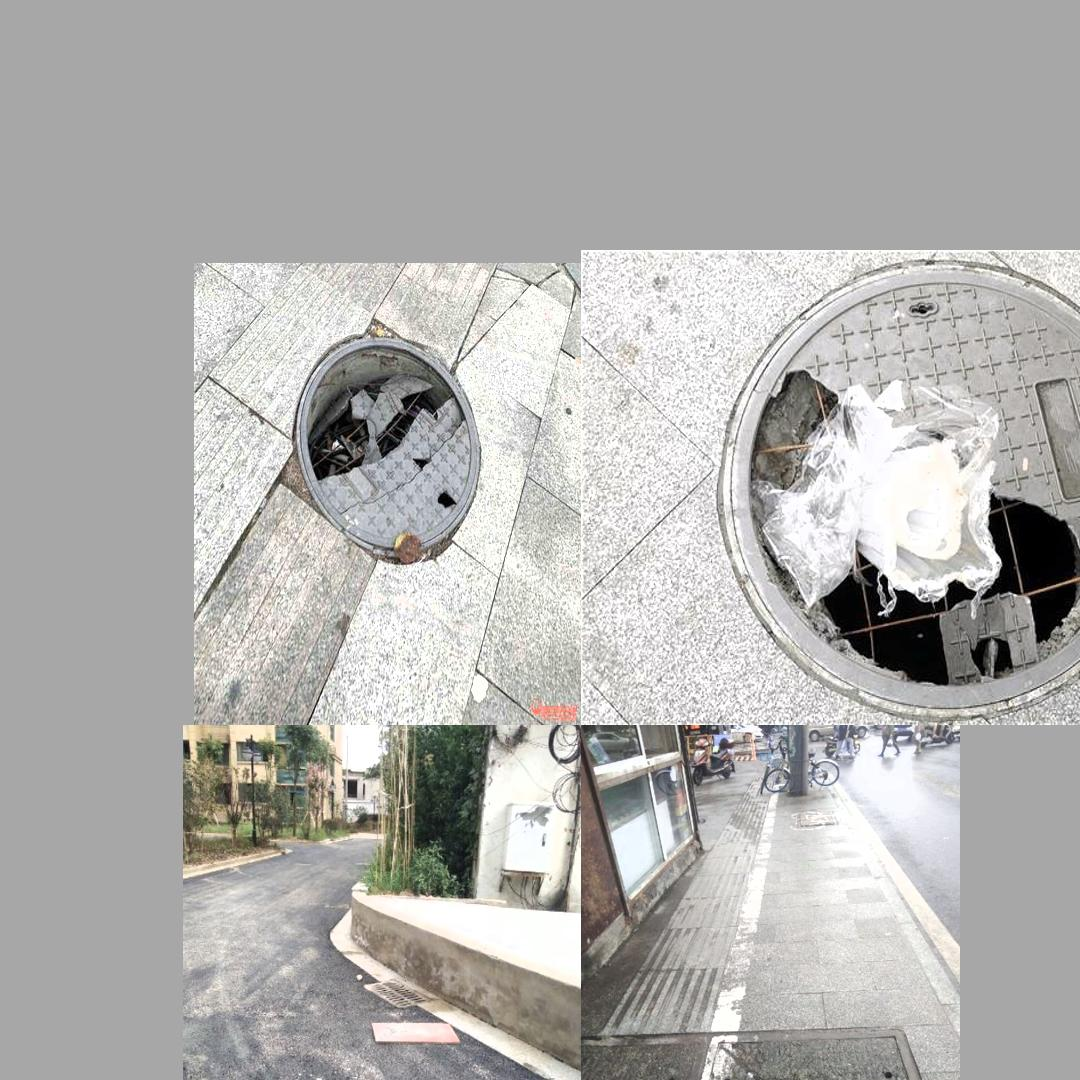broke: (707, 257, 1080, 710), (290, 329, 488, 568), (686, 1029, 940, 1080)
good: (581, 1033, 708, 1080)
